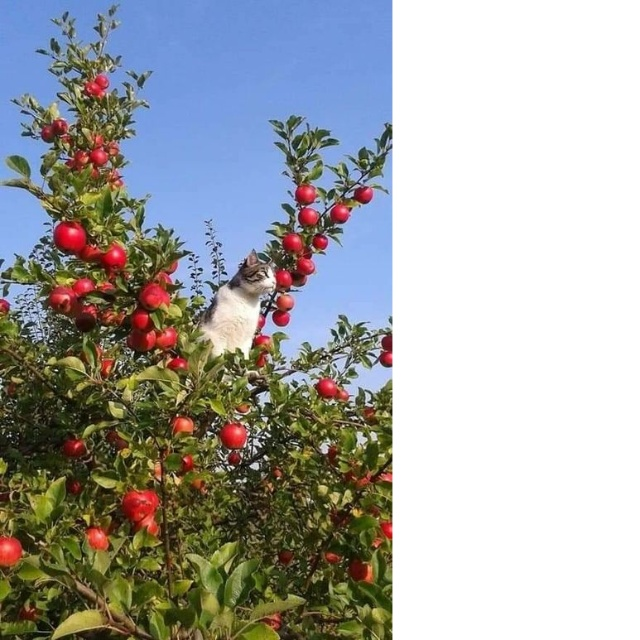sau_rieng: (43, 212, 89, 262), (116, 484, 165, 523), (212, 412, 252, 452), (1, 523, 27, 580), (80, 521, 112, 560), (283, 223, 316, 259), (47, 278, 79, 314), (101, 236, 129, 276), (127, 325, 161, 357), (298, 201, 327, 234), (141, 276, 169, 310), (310, 372, 342, 401), (295, 175, 321, 208), (332, 192, 349, 230)
